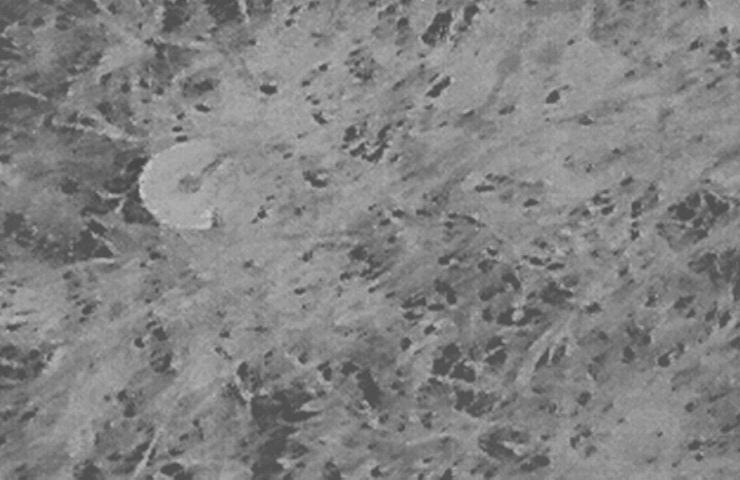landmines: (140, 136, 253, 235)
